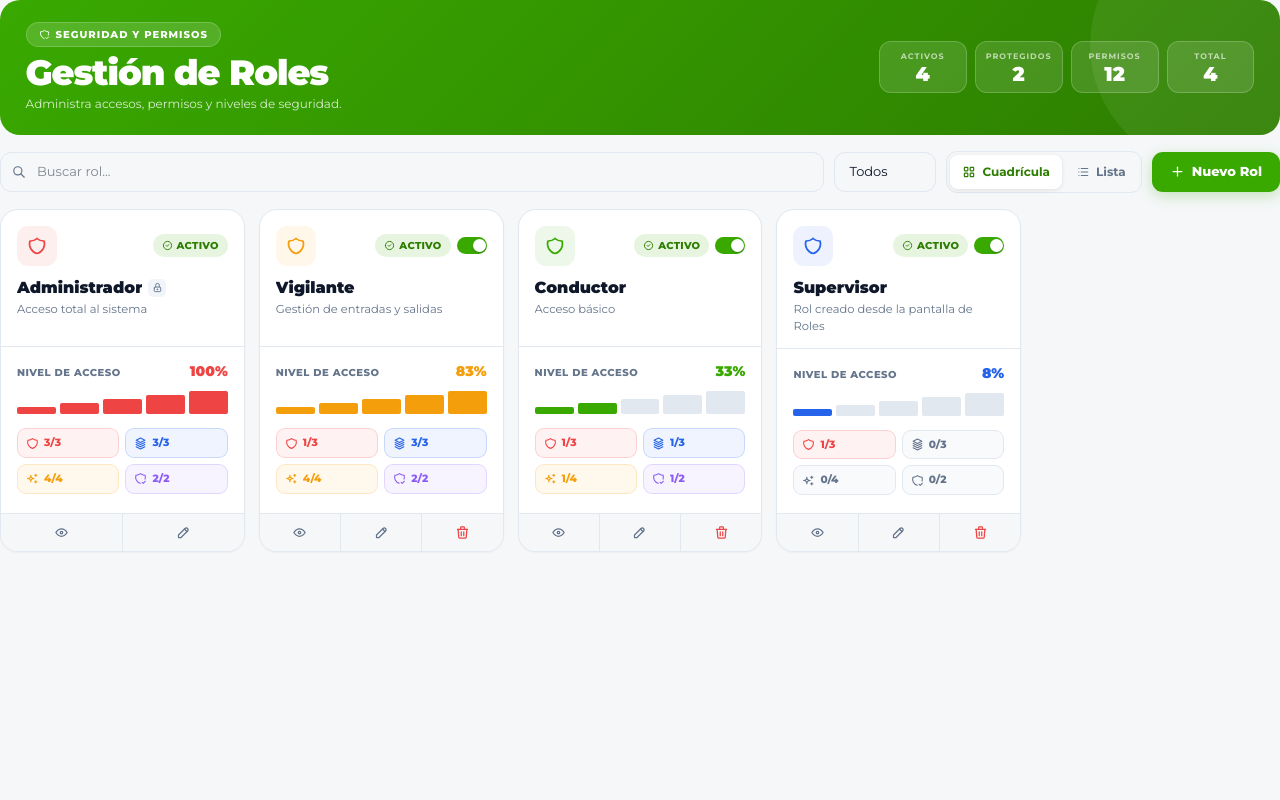
Test case: Roles › precarga los permisos guardados del rol y permite cambiarlos al editar
expect the heading "Administrador" is shown: met, box [17,278,142,297]
Step 1. Click the button named "Ver detalle de Administrador" → (61, 533), box [1,514,122,551]
(page scrolled)
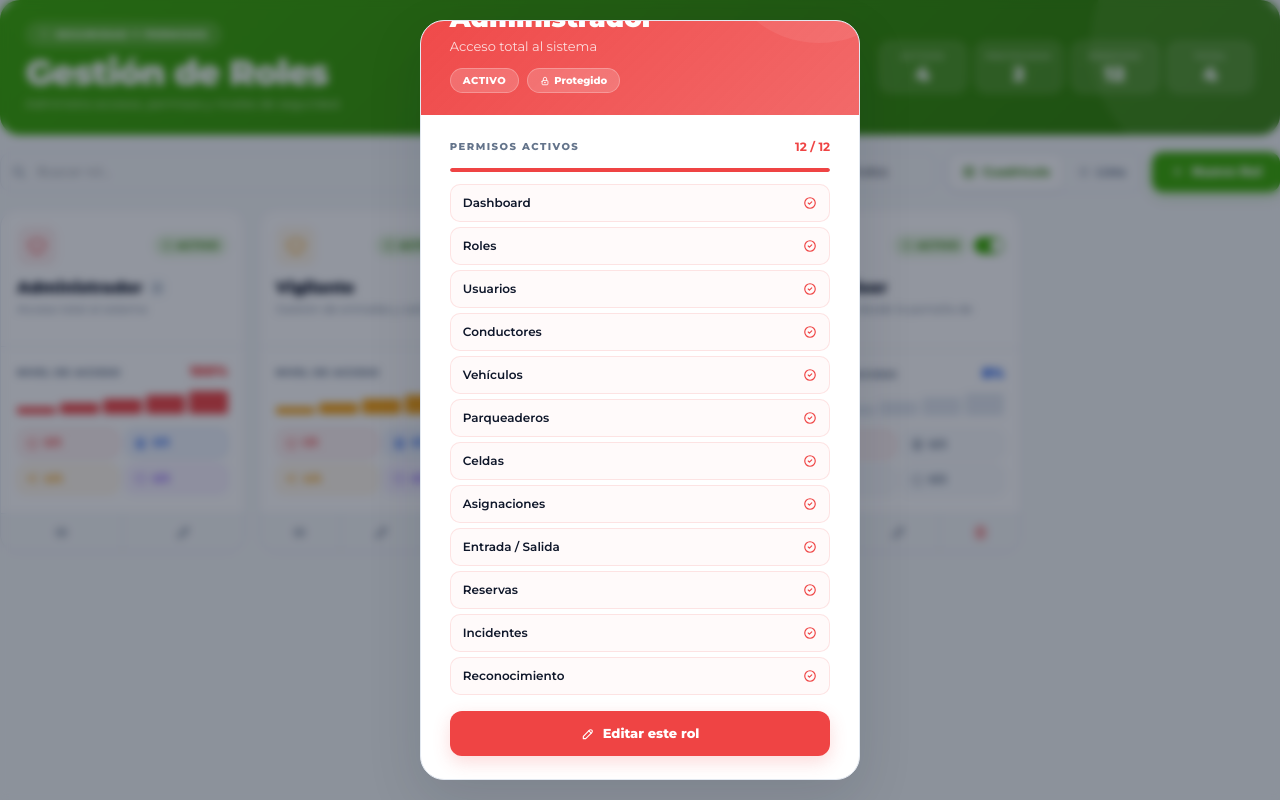
Step 2. Click the button "Editar este rol" → (640, 734), box [450,711,830,756]
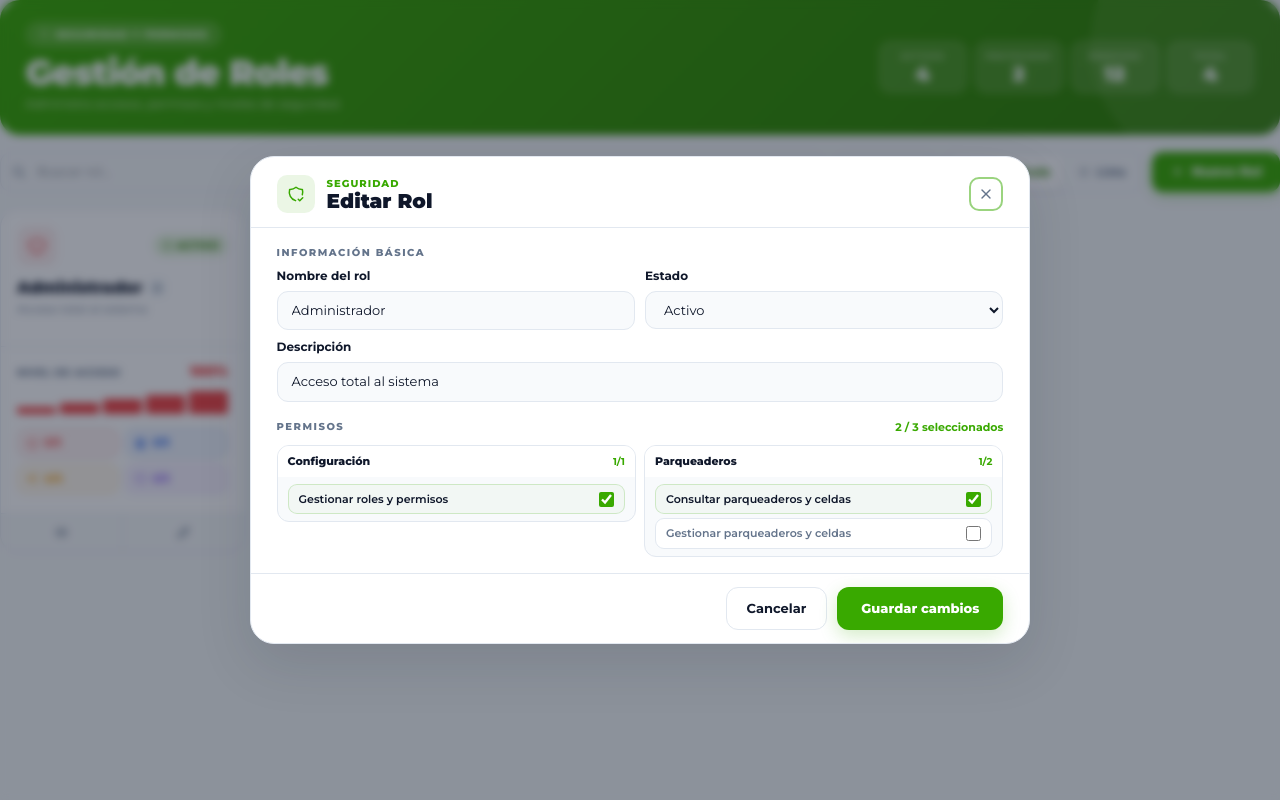
expect the heading "Editar Rol" is shown: met, box [327,191,432,211]
expect the text "2 / 3 seleccionados" is shown: met, box [895,419,1003,435]
expect the text "Gestionar roles y permisos" is shown: met, box [299,491,448,508]
Step 3. Click the checkbox labelled "Gestionar roles y permisos" → (606, 499), box [599,492,614,507]
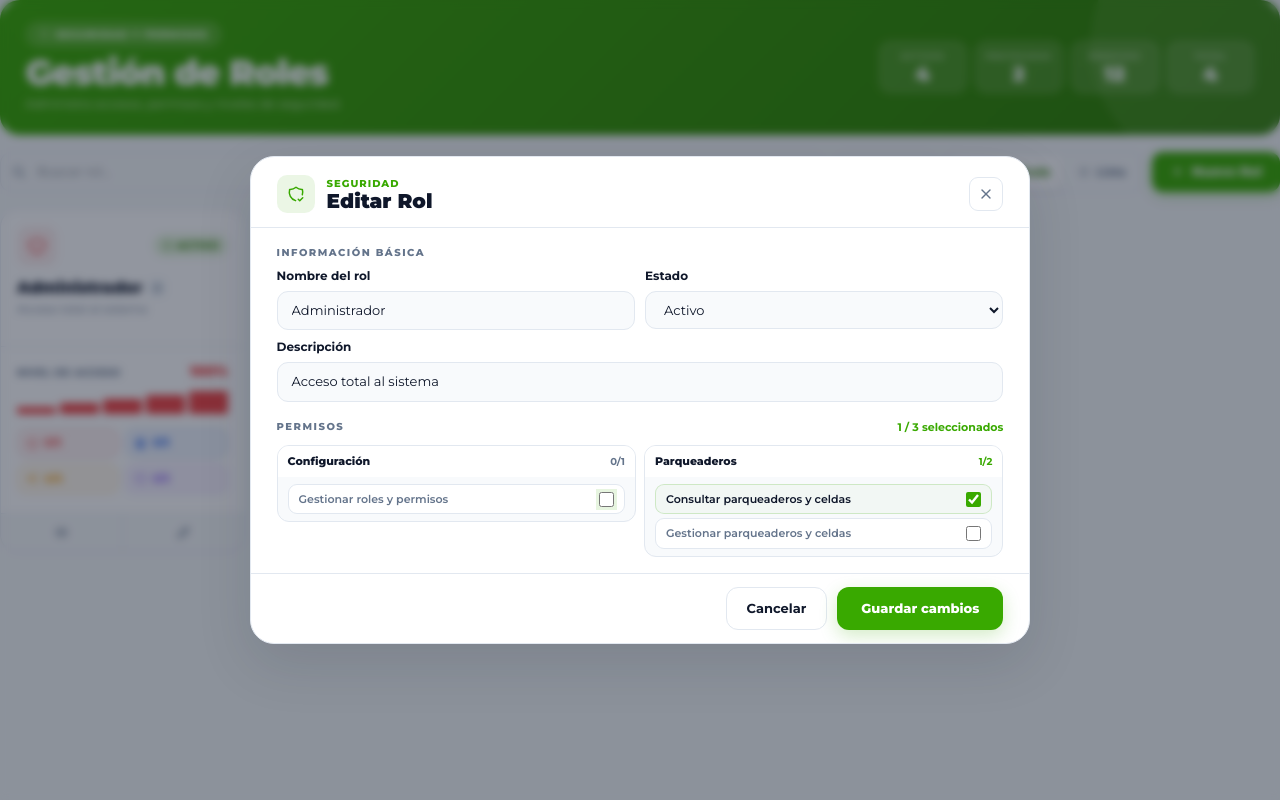
expect the text "1 / 3 seleccionados" is shown: met, box [897,419,1003,435]
